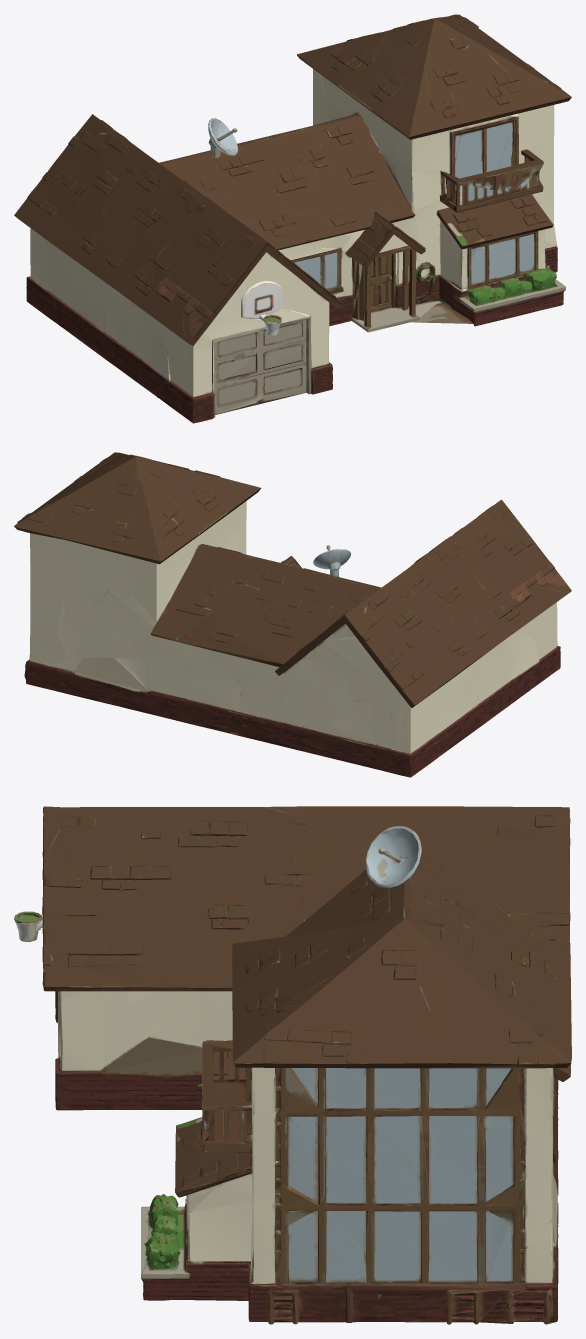
Rendered from smith-house.glb.
The picture shows the model from 3 angles, top to bottom: view 1: azimuth 30°, elevation 25°; view 2: azimuth 150°, elevation 25°; view 3: azimuth 270°, elevation 25°; orthographic projection. The views are drawn at different scales.
Size of the model in its own units: 1.9 by 0.9472 by 1.36.
Materials: 1 (1 with a texture image).
